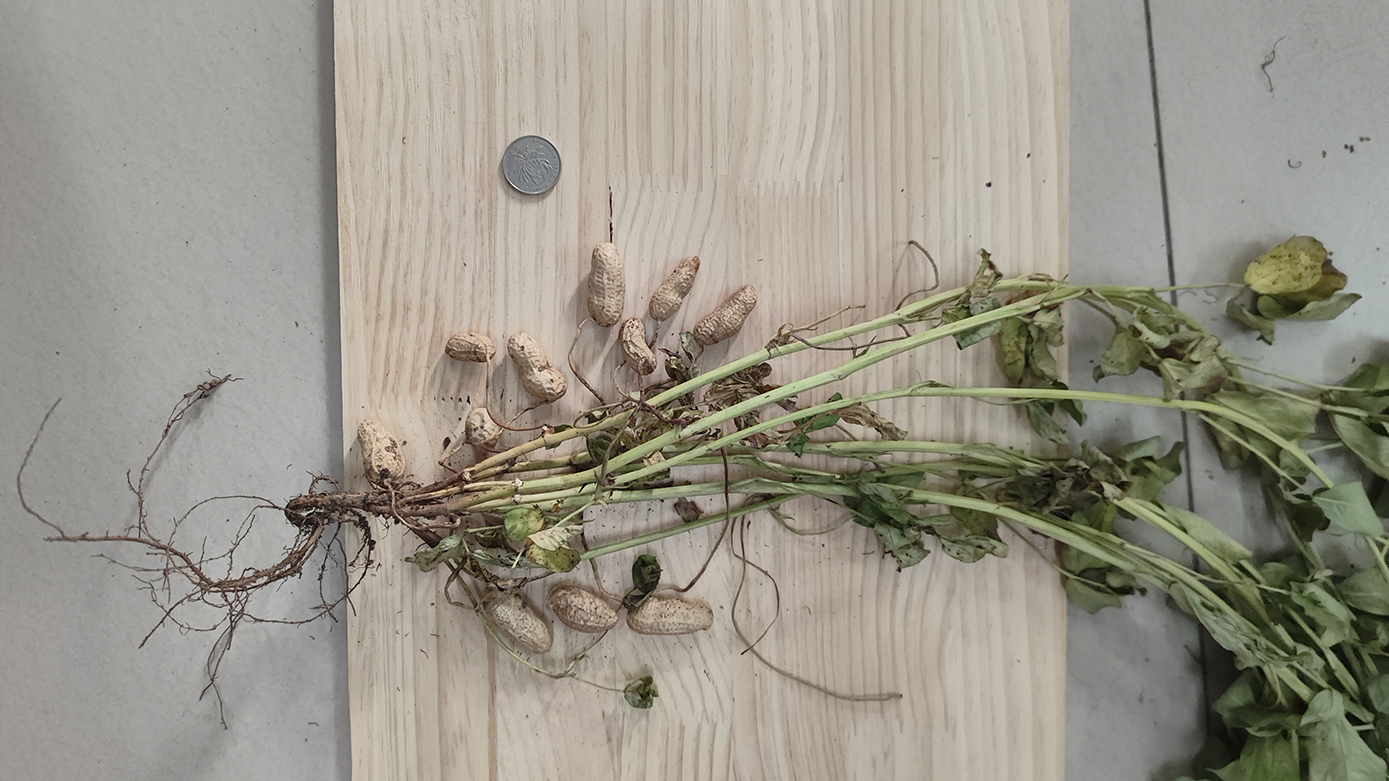h: (508, 331, 568, 399), (694, 285, 758, 345), (485, 598, 552, 653), (648, 256, 701, 320), (628, 596, 714, 635), (357, 420, 405, 489), (588, 242, 625, 328), (548, 589, 619, 632), (620, 319, 657, 375), (444, 334, 495, 364), (466, 410, 501, 453)
